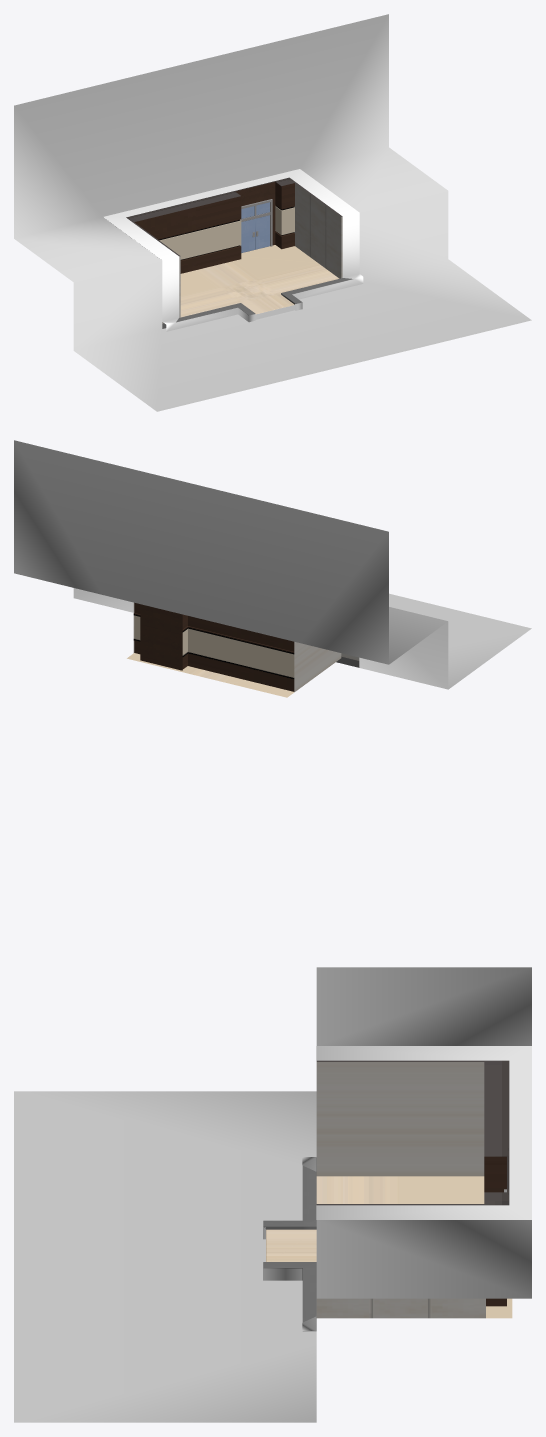
File: a_com_building_b03.gltf
3 views of the same model, one above another, from view 1: azimuth 30°, elevation 25°; view 2: azimuth 150°, elevation 25°; view 3: azimuth 270°, elevation 25° (orthographic). The views are drawn at different scales.
Visible parts, largest first — view 1: a_com_building_b03_outsideblank01_mesh_shape:a_com_building_, um_a_com_building_b03_model_a_com_building_b03_modelShape:a_ (×6), nomerge_outside_edge_shape:mat_texture_edge02, a_com_building_b03_ceiling01_mesh_shape:a_com_building_b03_c; view 2: a_com_building_b03_outsideblank01_mesh_shape:a_com_building_, um_a_com_building_b03_model_a_com_building_b03_modelShape:a_ (×4); view 3: a_com_building_b03_outsideblank01_mesh_shape:a_com_building_, um_a_com_building_b03_model_a_com_building_b03_modelShape:a_ (×4), nomerge_outside_edge_shape:mat_texture_edge02, a_com_building_b03_ceiling01_mesh_shape:a_com_building_b03_c.
Boxes of the visible parts, <box> form: a_com_building_b03_outsideblank01_mesh_shape:a_com_building_: <box>14,14,531,411</box>; um_a_com_building_b03_model_a_com_building_b03_modelShape:a_ (×6): <box>134,182,352,328</box>; nomerge_outside_edge_shape:mat_texture_edge02: <box>103,169,363,331</box>; a_com_building_b03_ceiling01_mesh_shape:a_com_building_b03_c: <box>126,177,342,256</box>; a_com_building_b03_outsideblank01_mesh_shape:a_com_building_: <box>14,440,531,689</box>; um_a_com_building_b03_model_a_com_building_b03_modelShape:a_ (×4): <box>127,602,359,697</box>; a_com_building_b03_outsideblank01_mesh_shape:a_com_building_: <box>14,967,531,1422</box>; um_a_com_building_b03_model_a_com_building_b03_modelShape:a_ (×4): <box>263,1062,512,1331</box>; nomerge_outside_edge_shape:mat_texture_edge02: <box>263,1046,531,1330</box>; a_com_building_b03_ceiling01_mesh_shape:a_com_building_b03_c: <box>316,1060,509,1205</box>.
Size of the model in its own units: 28 by 14.38 by 18.5.
Materials: 9 (7 with a texture image).
